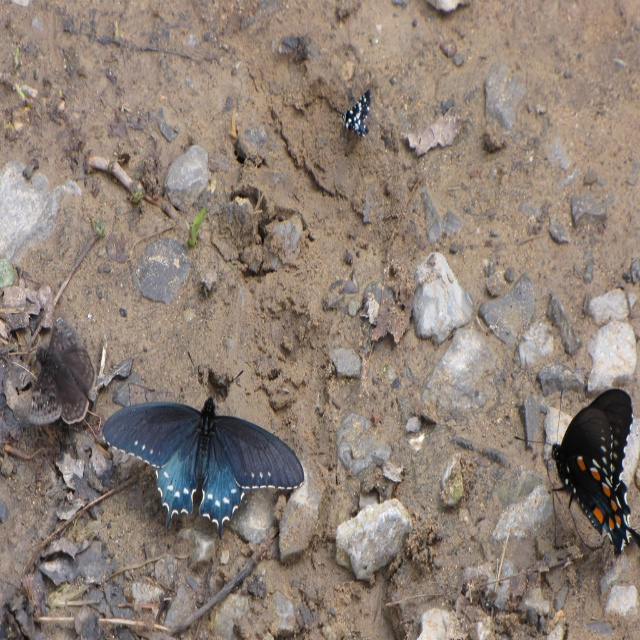Butterfly: (107, 373, 288, 545), (511, 384, 638, 566), (25, 316, 98, 425), (338, 90, 370, 155)
